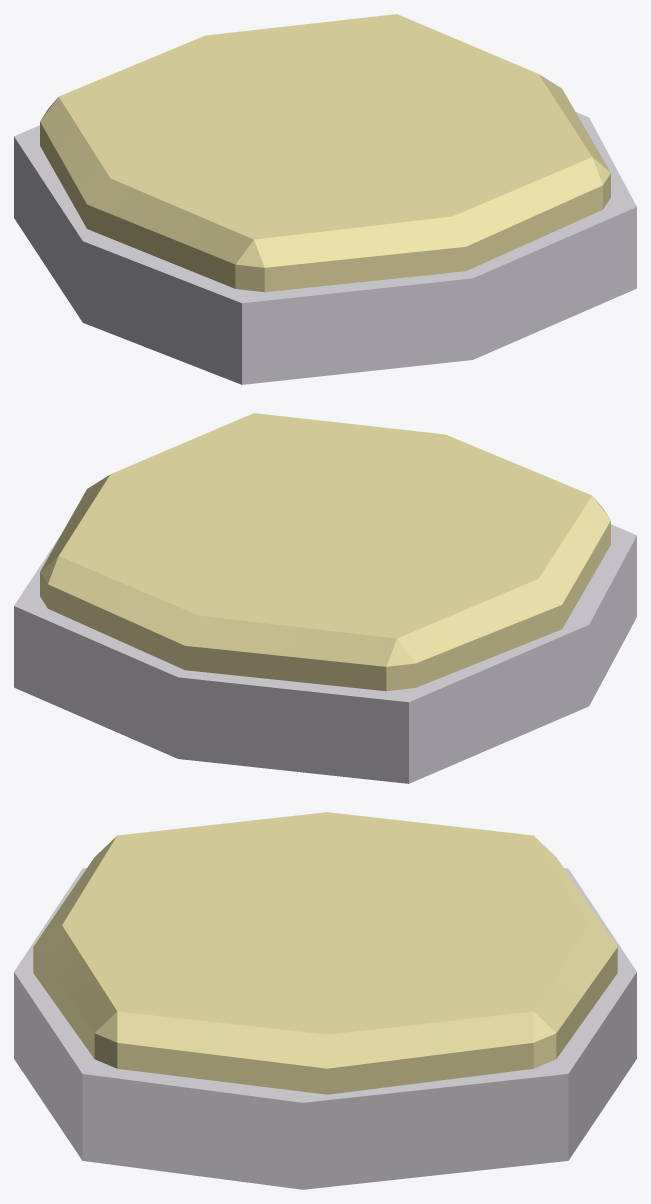
File: weight-plate-yellow-pushDOWN.fbx
The picture shows the model from 3 angles, top to bottom: view 1: azimuth 30°, elevation 25°; view 2: azimuth 150°, elevation 25°; view 3: azimuth 270°, elevation 25°; orthographic projection. The views are drawn at different scales.
Visible parts, largest first — view 1: weight_plate, weight_plate_base; view 2: weight_plate, weight_plate_base; view 3: weight_plate, weight_plate_base.
Boxes of the visible parts, x1=… form: weight_plate: x1=40, y1=14, x2=610, y2=292; weight_plate_base: x1=14, y1=112, x2=636, y2=384; weight_plate: x1=40, y1=413, x2=610, y2=691; weight_plate_base: x1=14, y1=524, x2=636, y2=783; weight_plate: x1=33, y1=812, x2=617, y2=1094; weight_plate_base: x1=14, y1=868, x2=636, y2=1189.
Size of the model in its own units: 4.1 by 0.9786 by 4.1.
Materials: 2 (2 with a texture image).
